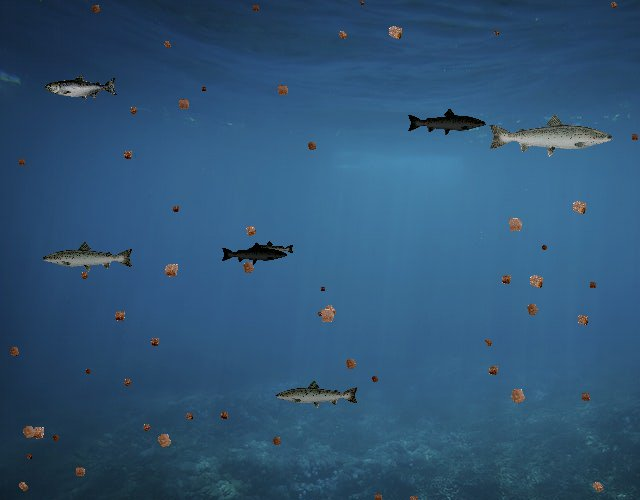Fish: (486, 112, 615, 158), (42, 240, 136, 274), (274, 379, 360, 410), (407, 108, 488, 137), (46, 74, 119, 100), (221, 242, 289, 266), (249, 240, 296, 257)
Pellet: (157, 256, 185, 284), (318, 299, 342, 323), (236, 256, 260, 280), (239, 220, 262, 243), (4, 341, 25, 362), (159, 37, 176, 54), (538, 241, 551, 254), (23, 451, 35, 463)
